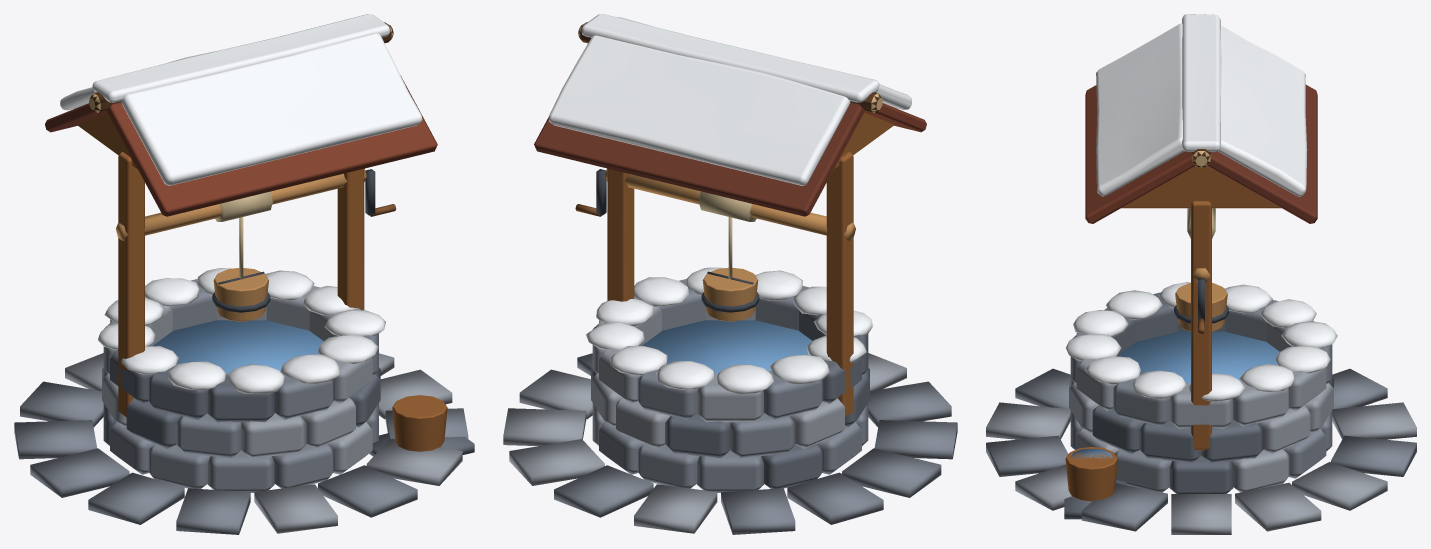
File: well.glb
3 renders of one model, left to right at view 1: azimuth 30°, elevation 25°; view 2: azimuth 150°, elevation 25°; view 3: azimuth 270°, elevation 25°, orthographic. The views are drawn at different scales.
Visible parts, largest first — view 1: exterior, roof, floor; view 2: exterior, roof, floor; view 3: exterior, roof, floor.
Part boxes in pixels (left/top/right/bottom): exterior: left=98, top=152, right=474, bottom=492; roof: left=45, top=14, right=437, bottom=216; floor: left=14, top=353, right=468, bottom=534; exterior: left=575, top=152, right=872, bottom=492; roof: left=534, top=14, right=926, bottom=216; floor: left=503, top=353, right=957, bottom=534; exterior: left=1064, top=201, right=1337, bottom=519; roof: left=1085, top=14, right=1317, bottom=223; floor: left=986, top=368, right=1416, bottom=534.
Size of the model in its own units: 2.42 by 2.29 by 2.43.
